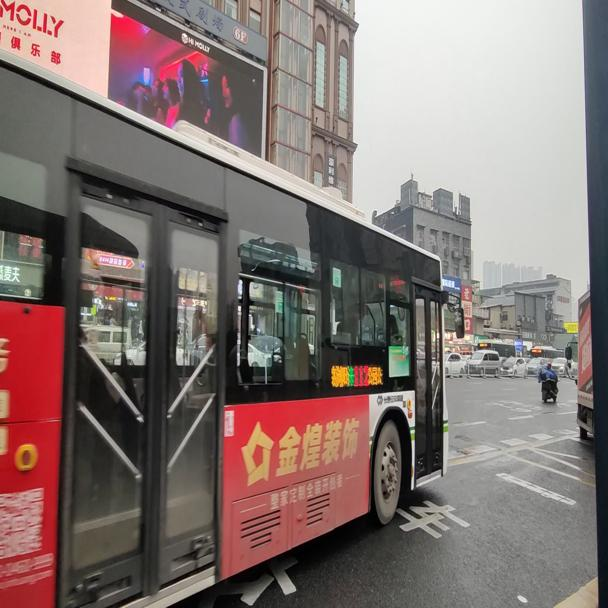bus: (0, 46, 464, 597)
screen: (354, 364, 368, 386)
